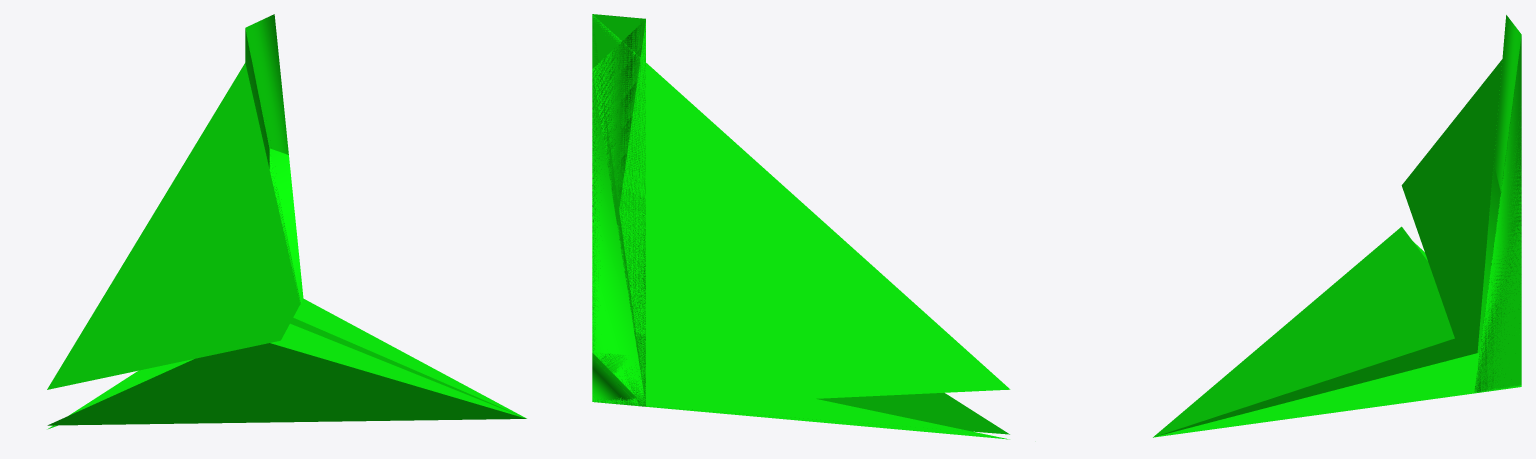
The picture shows the model from 3 angles, left to right: view 1: azimuth 30°, elevation 25°; view 2: azimuth 150°, elevation 25°; view 3: azimuth 270°, elevation 25°; orthographic projection. The views are drawn at different scales.
Parts seen in each view (by area): view 1: Cube.005; view 2: Cube.005; view 3: Cube.005.
Boxes of the visible parts, bbox=[...] form: Cube.005: bbox=[47, 14, 526, 429]; Cube.005: bbox=[592, 14, 1010, 439]; Cube.005: bbox=[1153, 15, 1521, 437].
Size of the model in its own units: 5.04e+09 by 3.51e+09 by 3.8e+09.
